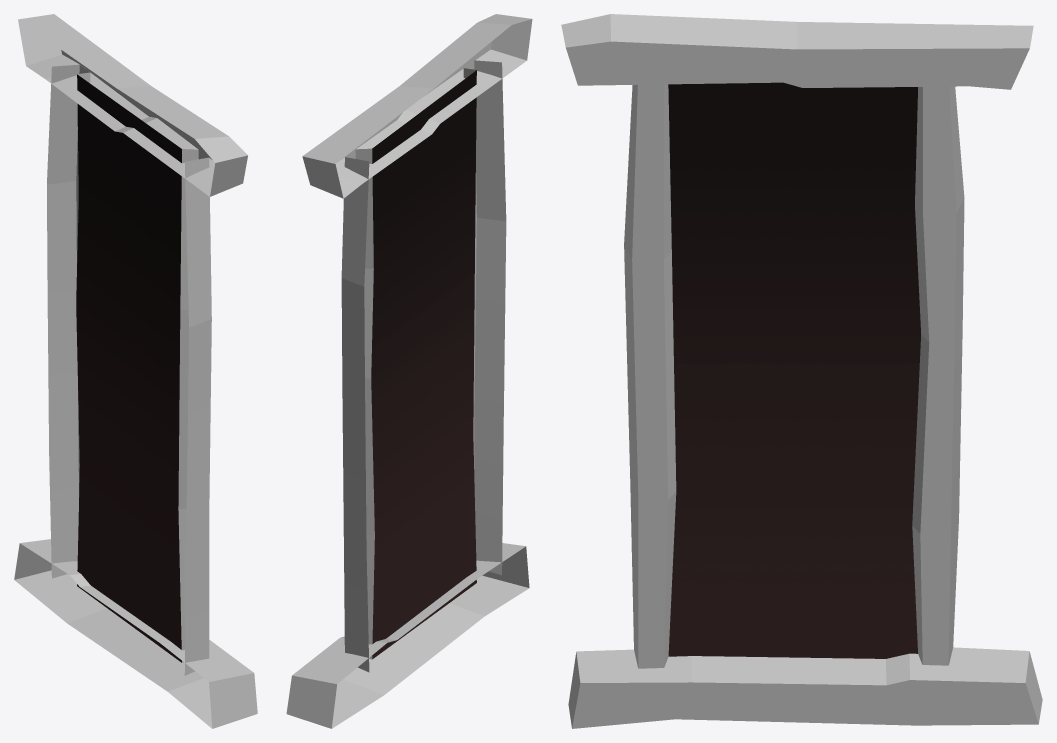
Rendered from lower_city_window_10.fbx.
3 views of the same model, side by side, from view 1: azimuth 30°, elevation 25°; view 2: azimuth 150°, elevation 25°; view 3: azimuth 270°, elevation 25° (orthographic). The views are drawn at different scales.
Parts seen in each view (by area): view 1: lower_city_window_10; view 2: lower_city_window_10; view 3: lower_city_window_10.
Part boxes in pixels (x1=…): lower_city_window_10: x1=14, y1=14, x2=257, y2=728; lower_city_window_10: x1=286, y1=14, x2=532, y2=728; lower_city_window_10: x1=561, y1=14, x2=1042, y2=728.
Size of the model in its own units: 0.1409 by 1.66 by 1.04.
